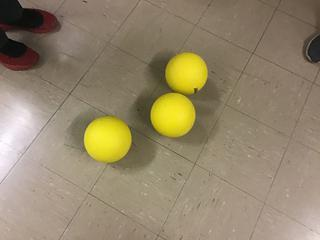power_cell: (145, 90, 206, 145), (81, 115, 136, 165), (157, 49, 209, 95)
